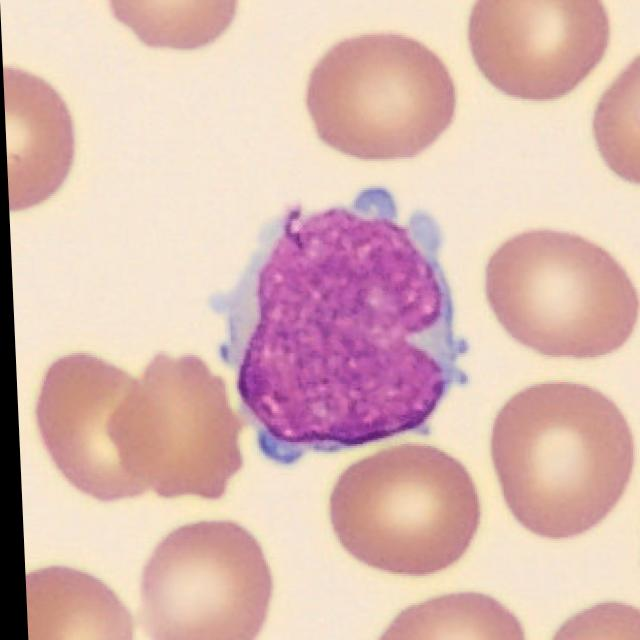Linfocito: (211, 208, 461, 450)
